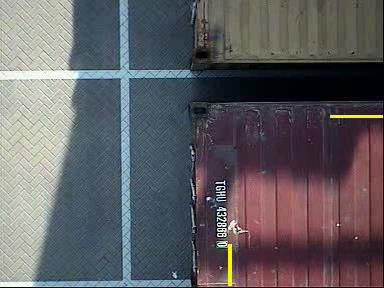groundmarker_2: (91, 70, 157, 117), (93, 241, 159, 288)
